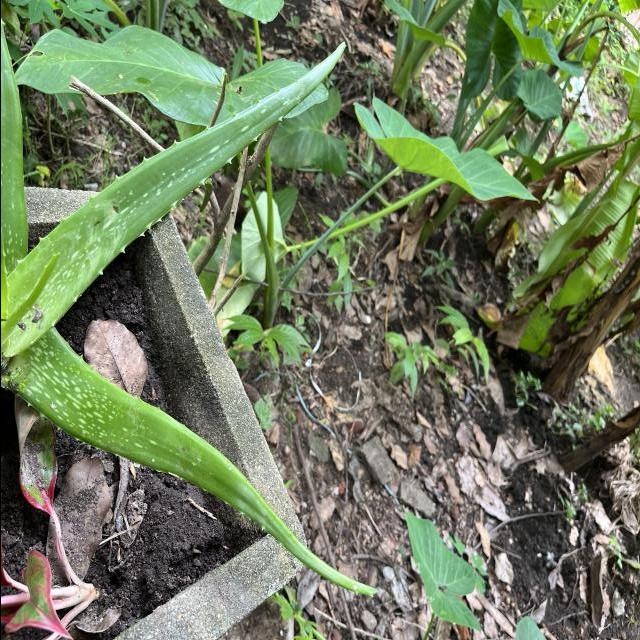Aloe vera: (0, 36, 348, 364), (6, 327, 381, 606)
